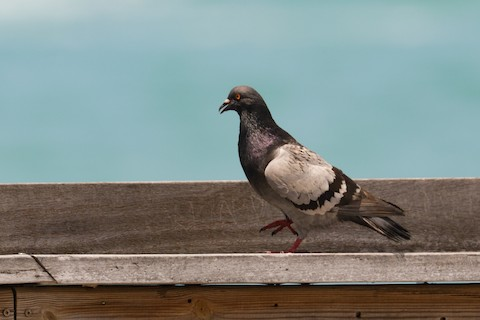pigeon: (214, 82, 418, 255)
